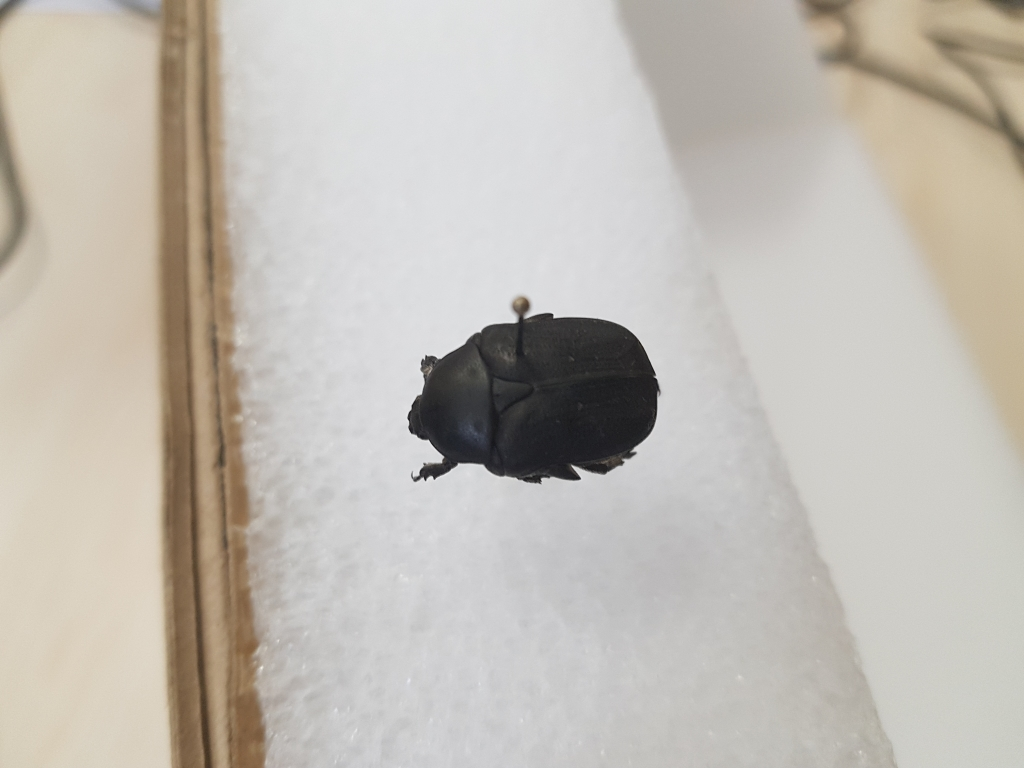Protaetia_asiatica: (392, 304, 666, 498)
